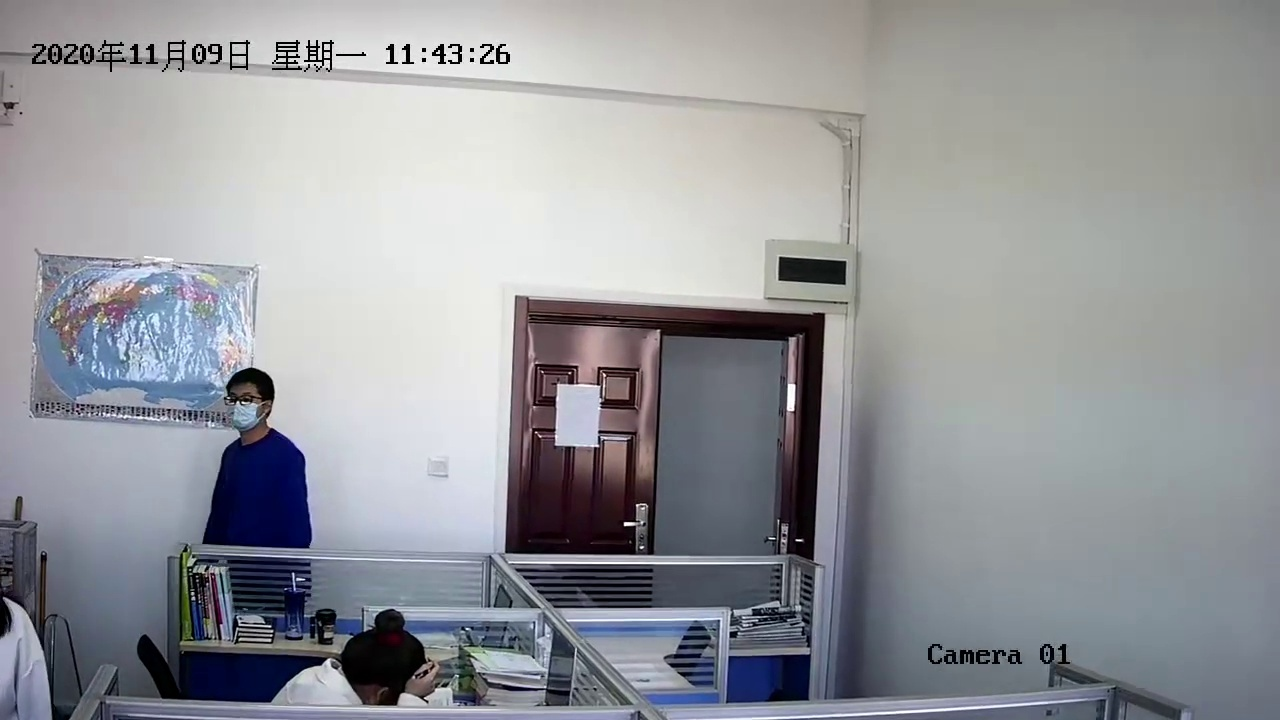mask: (223, 376, 272, 438)
